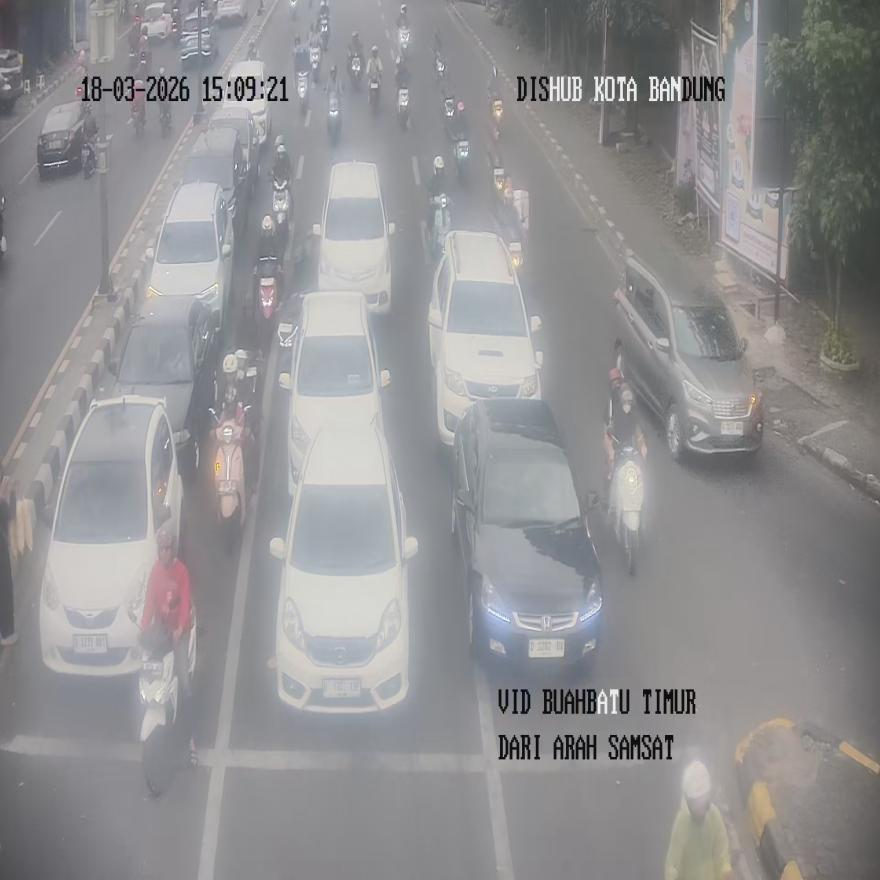Motor: (268, 413, 418, 714), (451, 399, 604, 668), (38, 394, 184, 675), (612, 248, 763, 458), (428, 230, 542, 446), (278, 290, 391, 498), (110, 294, 217, 473), (144, 179, 232, 334), (313, 160, 395, 313)
Truk: (137, 608, 196, 799), (209, 404, 254, 553), (608, 433, 645, 576), (256, 260, 282, 333), (425, 192, 452, 261), (271, 174, 291, 241), (452, 134, 470, 182), (327, 89, 341, 141), (492, 164, 507, 212), (396, 86, 410, 131), (82, 137, 97, 178), (396, 24, 410, 66), (349, 52, 363, 91), (310, 43, 322, 88), (297, 68, 308, 115), (490, 97, 502, 138), (368, 74, 380, 113), (159, 104, 172, 137), (319, 13, 330, 50)
